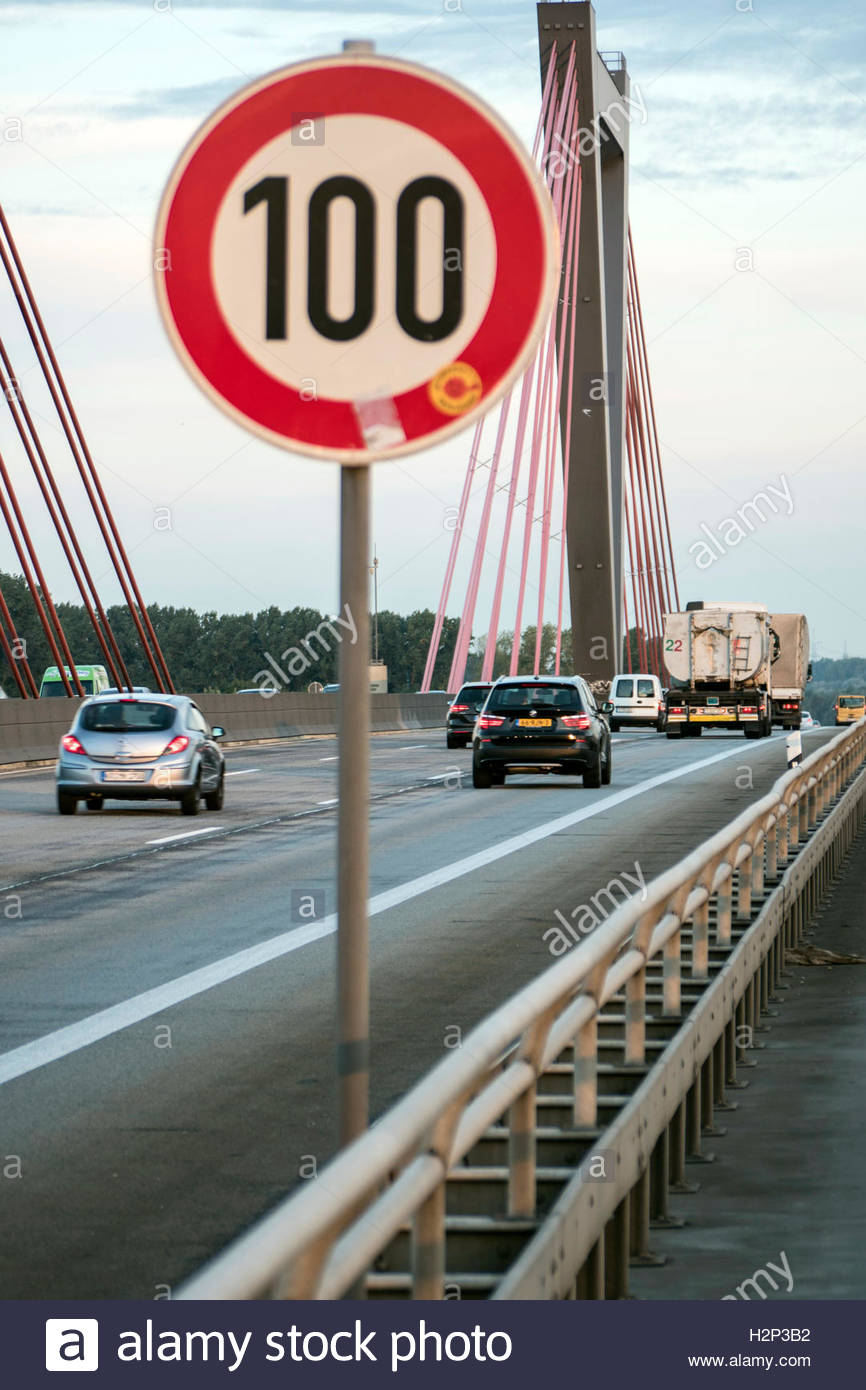Speed_limit_100km: (151, 55, 564, 463)
car: (51, 688, 238, 823), (468, 672, 618, 792)
